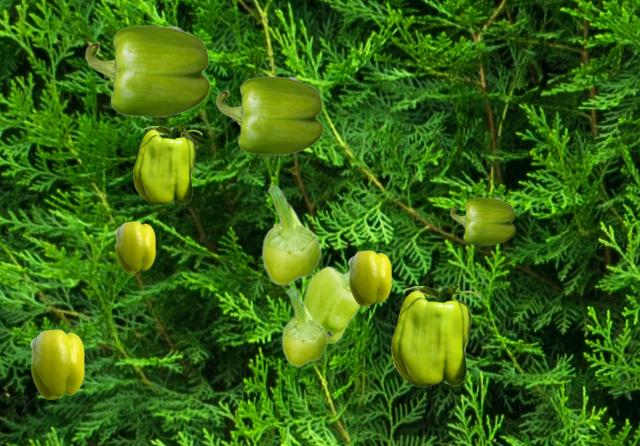bell_pepper: (85, 25, 209, 116), (391, 286, 478, 386), (216, 76, 322, 154), (261, 185, 321, 285), (133, 126, 201, 204), (302, 265, 360, 343), (30, 329, 83, 398), (281, 288, 327, 366), (450, 197, 514, 244), (348, 250, 390, 305), (115, 221, 154, 272)
